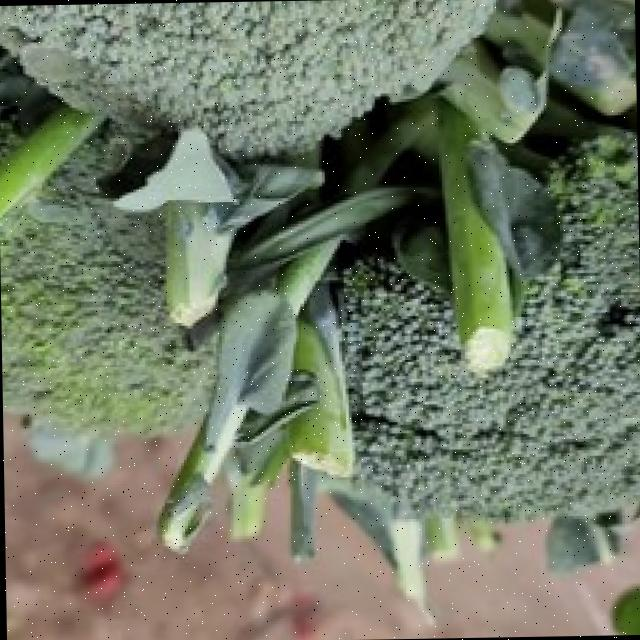Broccoli: (344, 131, 640, 519), (344, 131, 640, 519), (0, 0, 492, 155), (0, 121, 213, 432), (1, 124, 213, 432)
